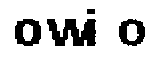i: (87, 4, 105, 51)
o: (112, 17, 148, 51), (12, 14, 42, 50)
w: (44, 17, 88, 48)
